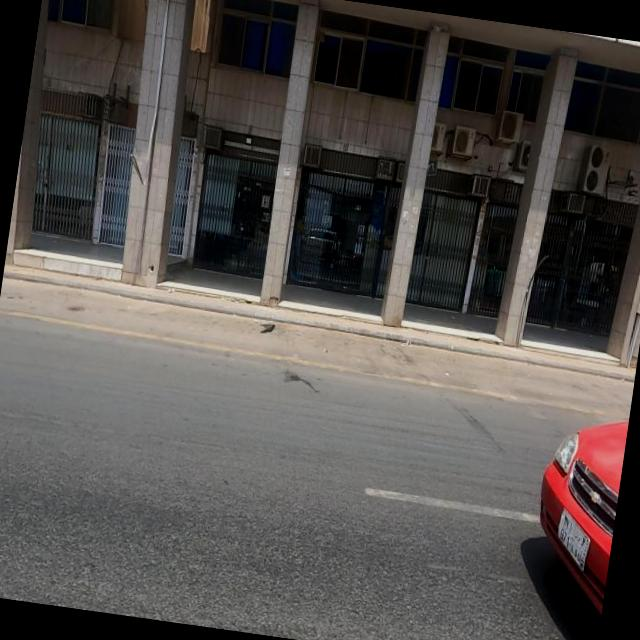debris: (238, 304, 294, 358)
